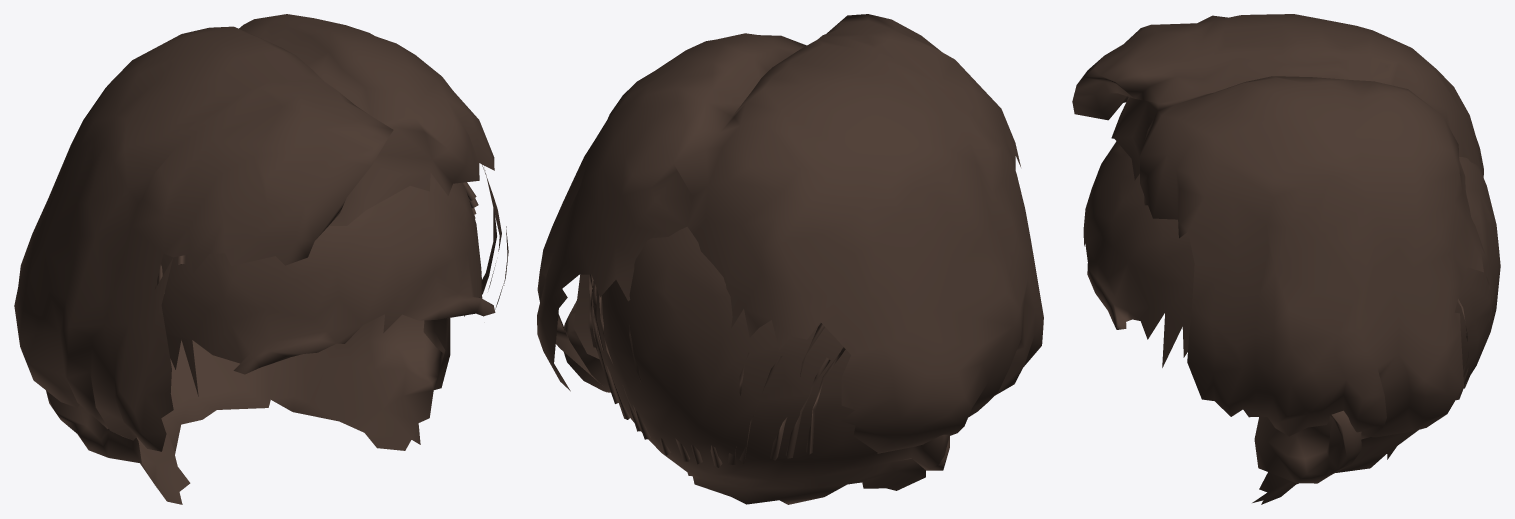
File: bob.glb
3 renders of one model, left to right at view 1: azimuth 30°, elevation 25°; view 2: azimuth 150°, elevation 25°; view 3: azimuth 270°, elevation 25°, orthographic. The views are drawn at different scales.
Visible parts, largest first — view 1: Hair, HairScalp; view 2: Hair, HairScalp, HairPulledRootStrands; view 3: Hair, HairScalp.
Part boxes in pixels (x1,y1,x2,y2): Hair: [14, 14, 508, 451]; HairScalp: [46, 173, 495, 504]; Hair: [537, 14, 1043, 453]; HairScalp: [564, 226, 949, 504]; HairPulledRootStrands: [589, 274, 845, 467]; Hair: [1072, 14, 1484, 439]; HairScalp: [1083, 141, 1500, 504].
Size of the model in its own units: 0.5276 by 0.4802 by 0.4543.
